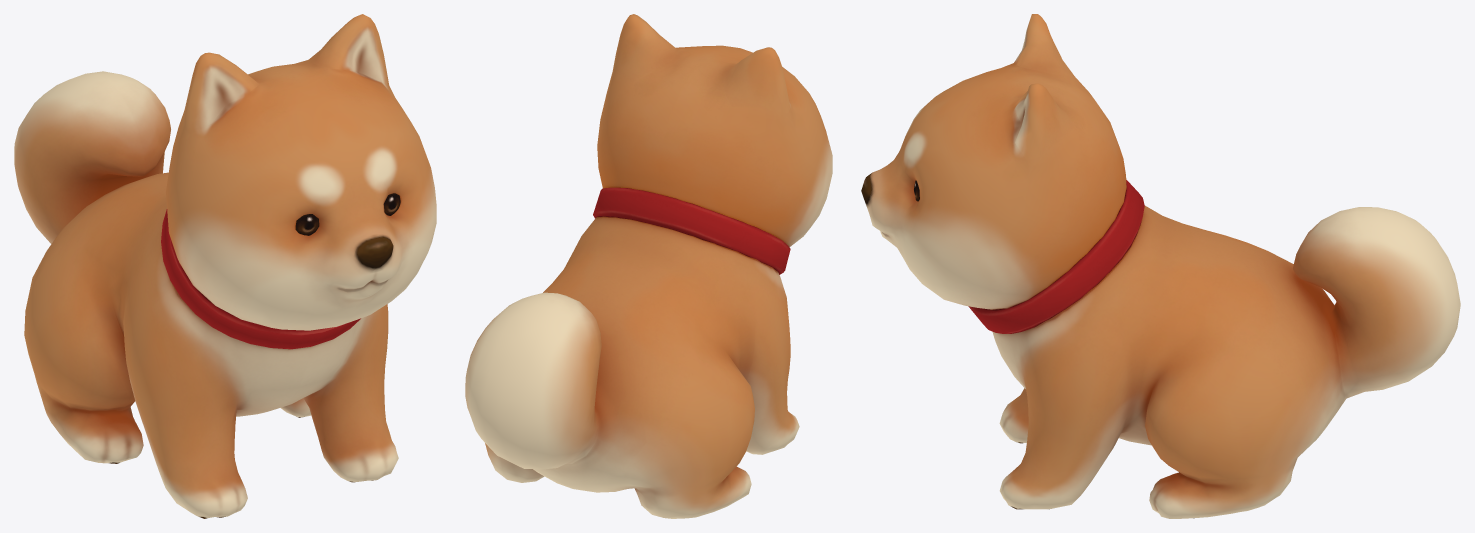
The model's file is shibainu.glb.
The picture shows the model from 3 angles, left to right: view 1: azimuth 30°, elevation 25°; view 2: azimuth 150°, elevation 25°; view 3: azimuth 270°, elevation 25°; orthographic projection. The views are drawn at different scales.
Parts seen in each view (by area): view 1: Box002_default_0; view 2: Box002_default_0; view 3: Box002_default_0.
Boxes of the visible parts, left/top/right/bottom form: Box002_default_0: left=14, top=14, right=436, bottom=518; Box002_default_0: left=465, top=14, right=832, bottom=518; Box002_default_0: left=861, top=14, right=1460, bottom=518.
Size of the model in its own units: 0.9209 by 1.38 by 1.78.
Materials: 1 (1 with a texture image).
